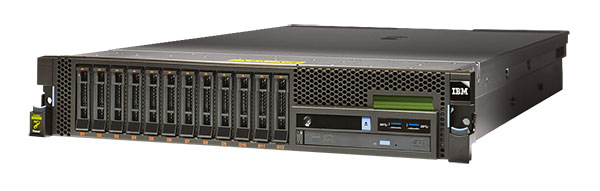ibm-server: (24, 22, 571, 170)
